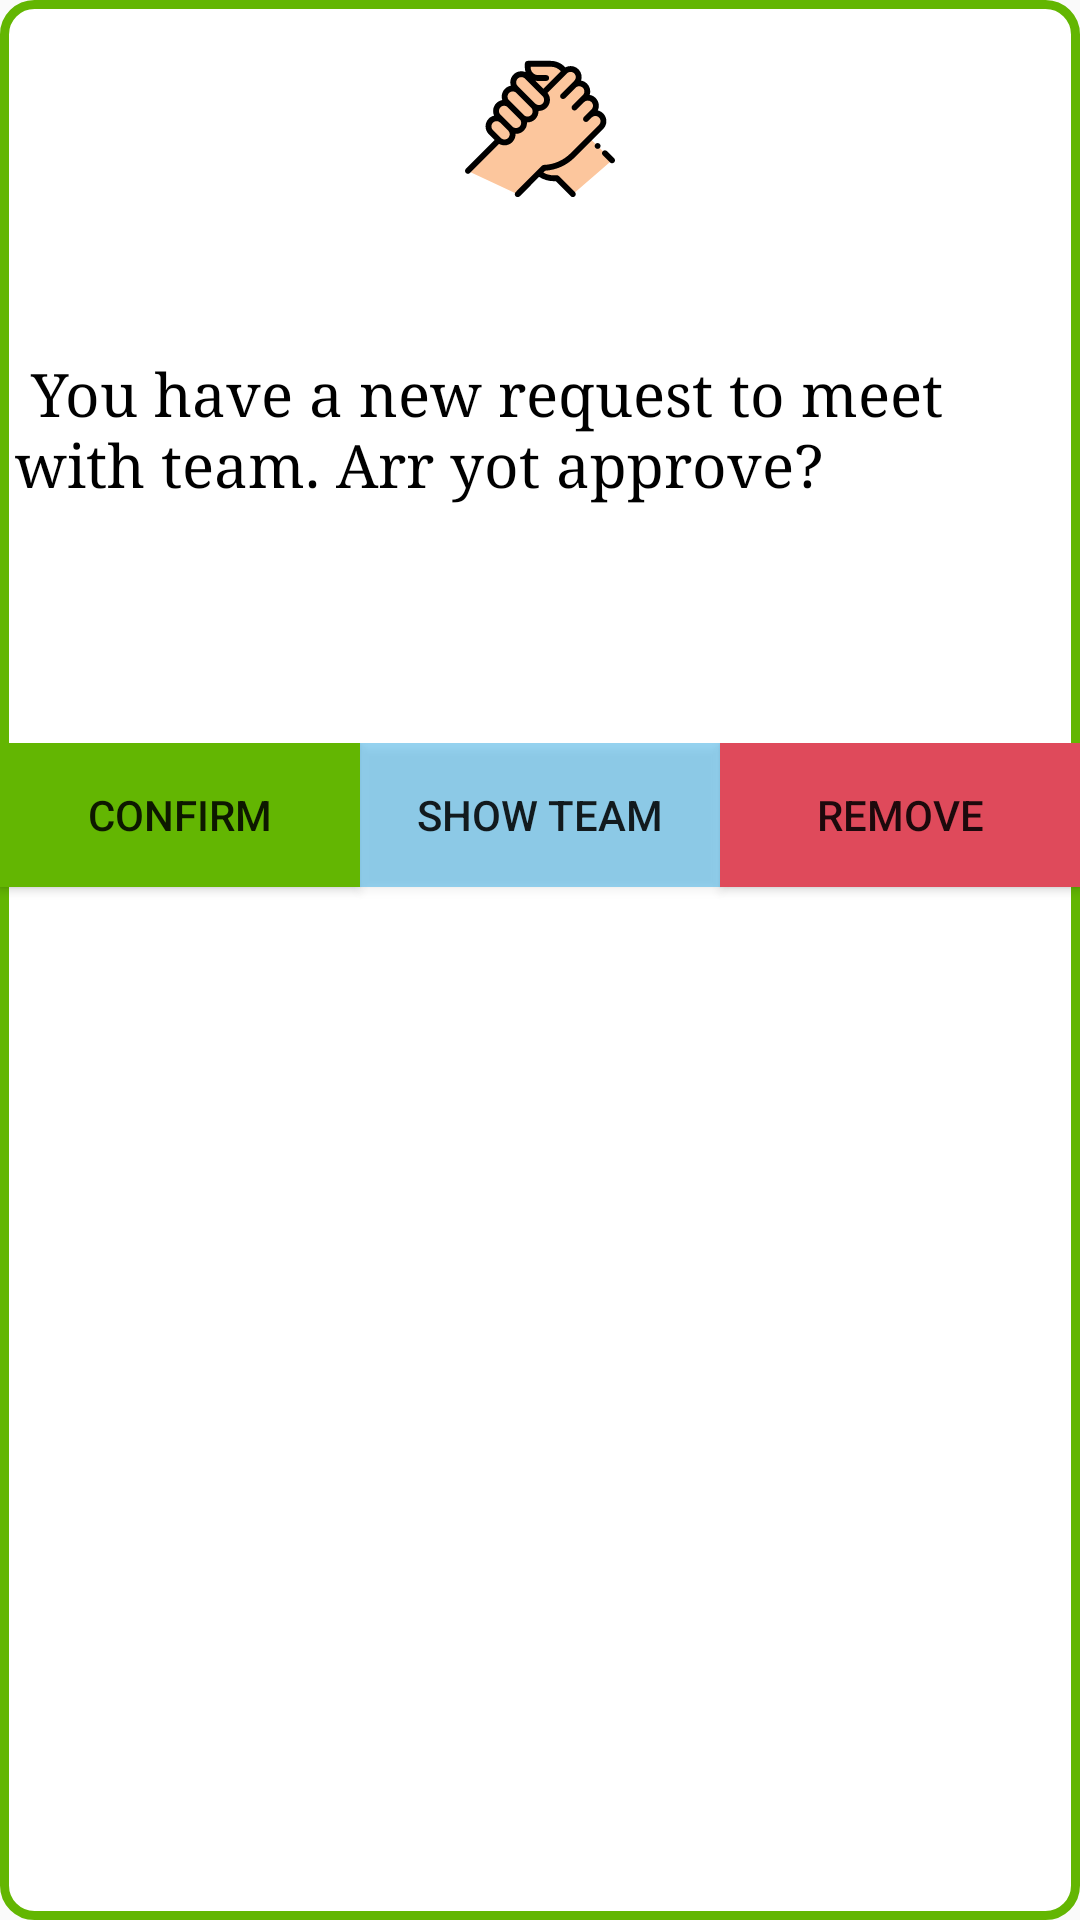

Icons on this 1080 × 1920 Android screen, each with the point to tap as (x=x, y=y):
support: (x=540, y=128)
